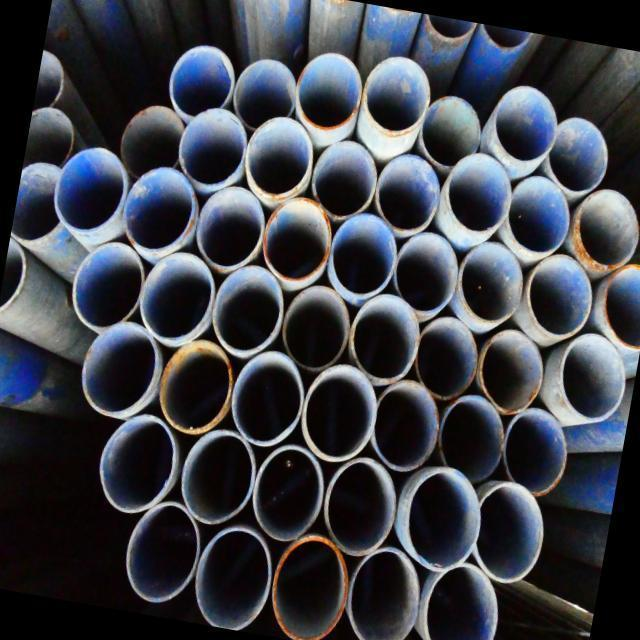pipe: (393, 462, 482, 580), (92, 414, 184, 520), (78, 318, 162, 428), (47, 140, 131, 243), (226, 350, 307, 455), (192, 528, 272, 634), (66, 238, 148, 340), (175, 429, 256, 532), (119, 503, 203, 602), (248, 444, 326, 548), (298, 364, 379, 464), (155, 339, 235, 440), (320, 458, 400, 557), (270, 540, 349, 640), (496, 406, 579, 498), (345, 294, 426, 388), (552, 332, 630, 429), (471, 486, 546, 586), (120, 166, 200, 258), (139, 250, 218, 342), (358, 52, 434, 146), (370, 380, 443, 476), (368, 152, 448, 239), (343, 552, 422, 640), (260, 196, 335, 288), (210, 265, 286, 355), (417, 562, 504, 640), (486, 82, 564, 169), (472, 329, 546, 417), (441, 150, 514, 239), (240, 116, 318, 198), (194, 187, 269, 272), (520, 257, 594, 343), (390, 229, 462, 317), (174, 112, 254, 190), (294, 51, 365, 137), (282, 285, 354, 369), (330, 212, 400, 298), (572, 187, 640, 275), (456, 242, 528, 324), (306, 143, 382, 220), (499, 181, 572, 260), (166, 41, 237, 122), (438, 396, 504, 480), (118, 102, 188, 180), (411, 318, 479, 396), (548, 112, 615, 190), (10, 158, 69, 244), (232, 56, 300, 128), (420, 91, 484, 165), (597, 261, 640, 346), (0, 237, 39, 328), (24, 107, 78, 165), (33, 46, 76, 111), (474, 23, 528, 72), (422, 14, 475, 54)
